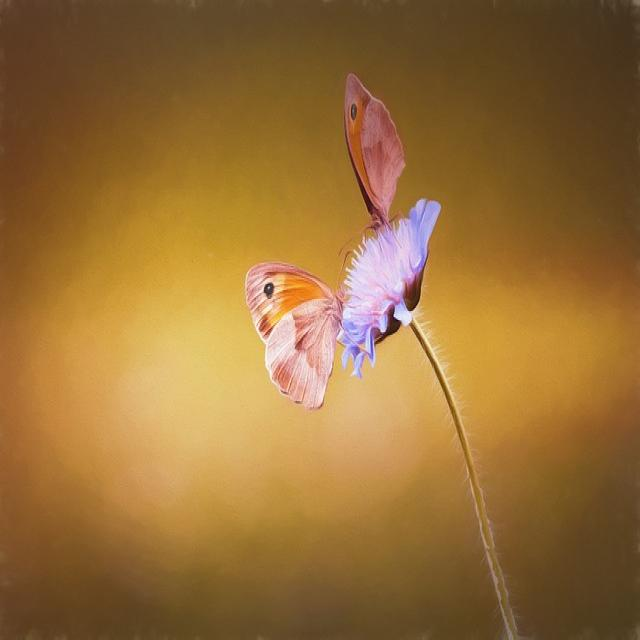butterfly: (246, 263, 342, 408), (344, 73, 405, 223)
